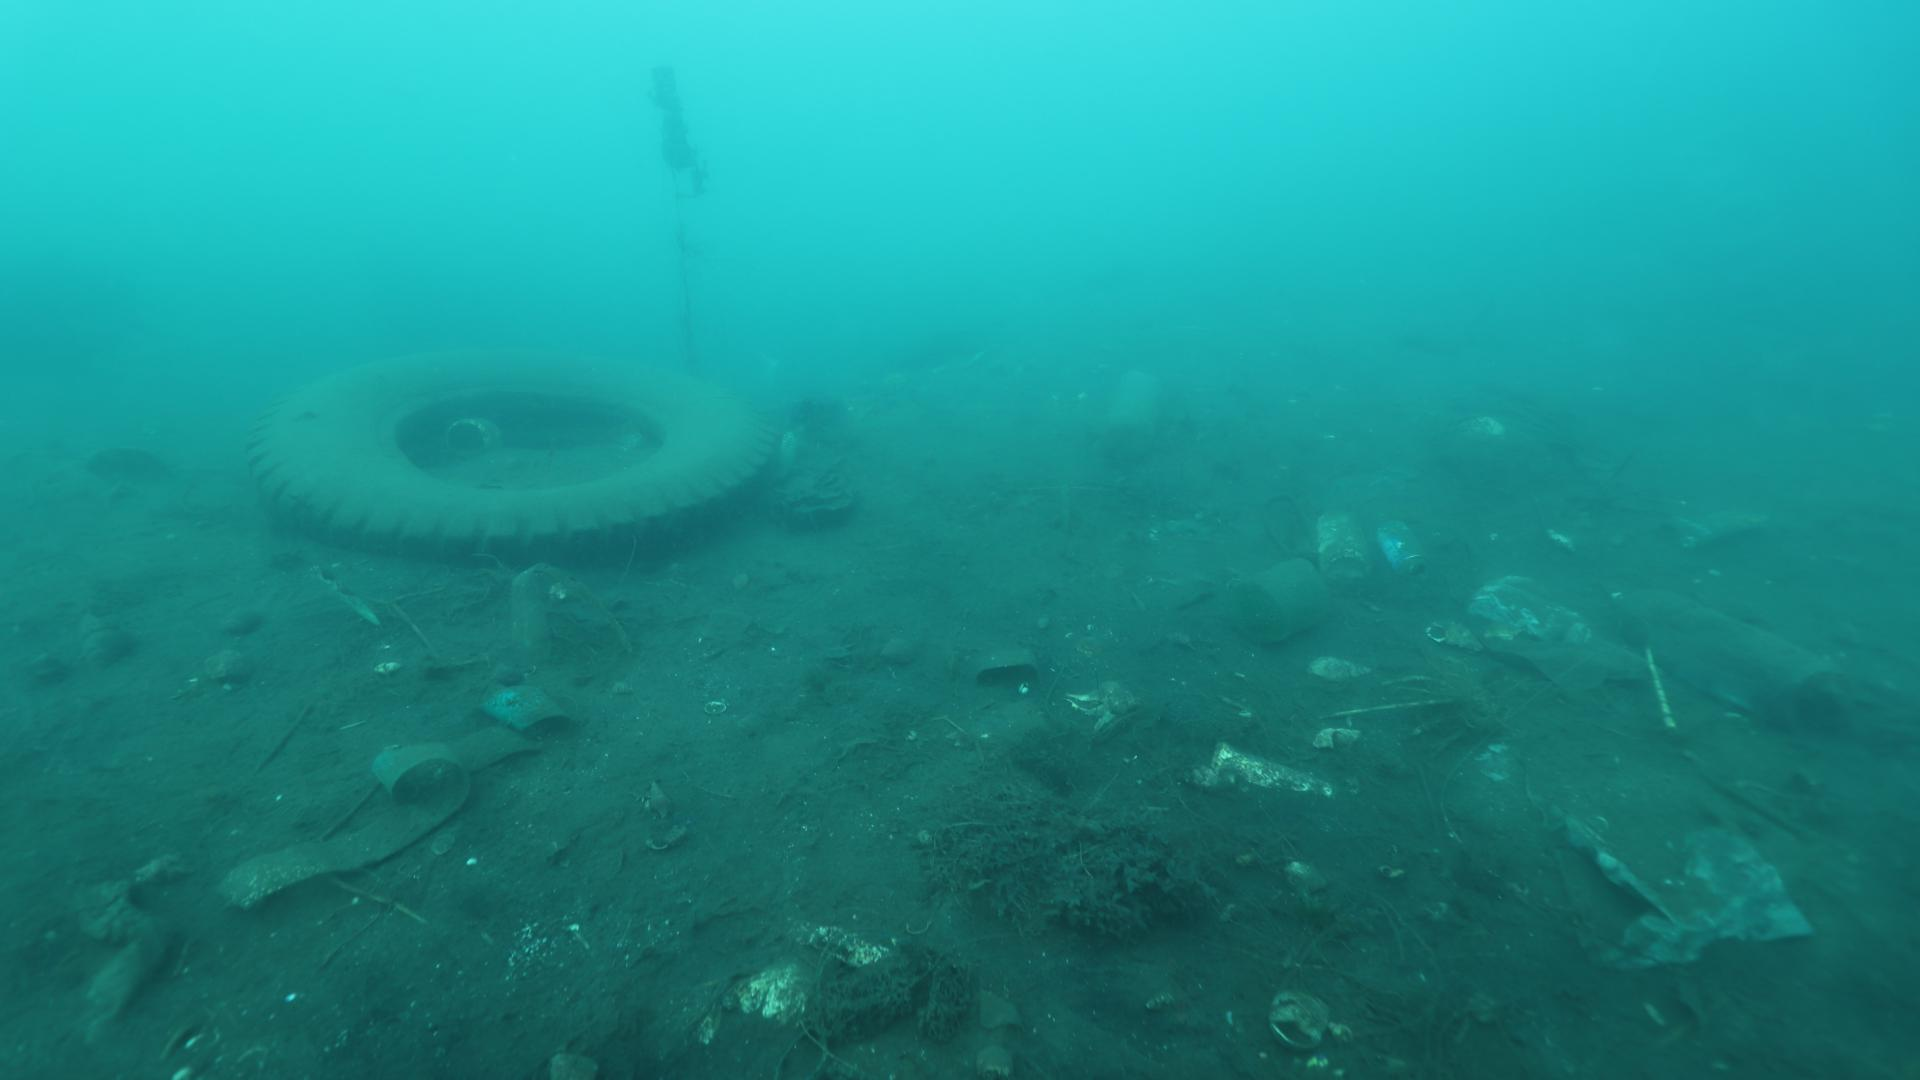tire: (241, 345, 775, 567)
